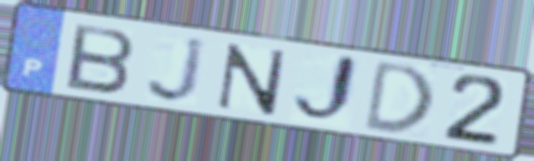2: (439, 72, 510, 150)
B: (63, 21, 138, 96)
D: (360, 57, 438, 135)
J: (289, 51, 362, 127), (144, 35, 209, 106)
N: (213, 41, 291, 118)
